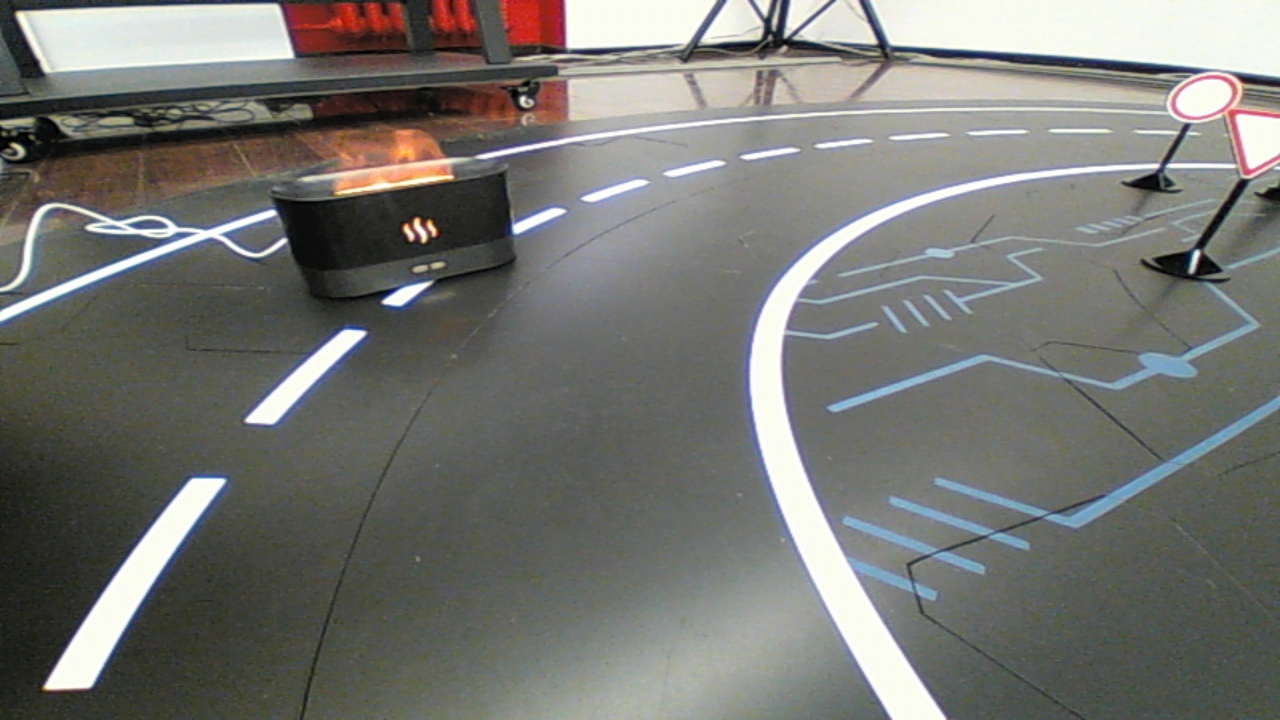Movement prohibition: (248, 131, 543, 315)
